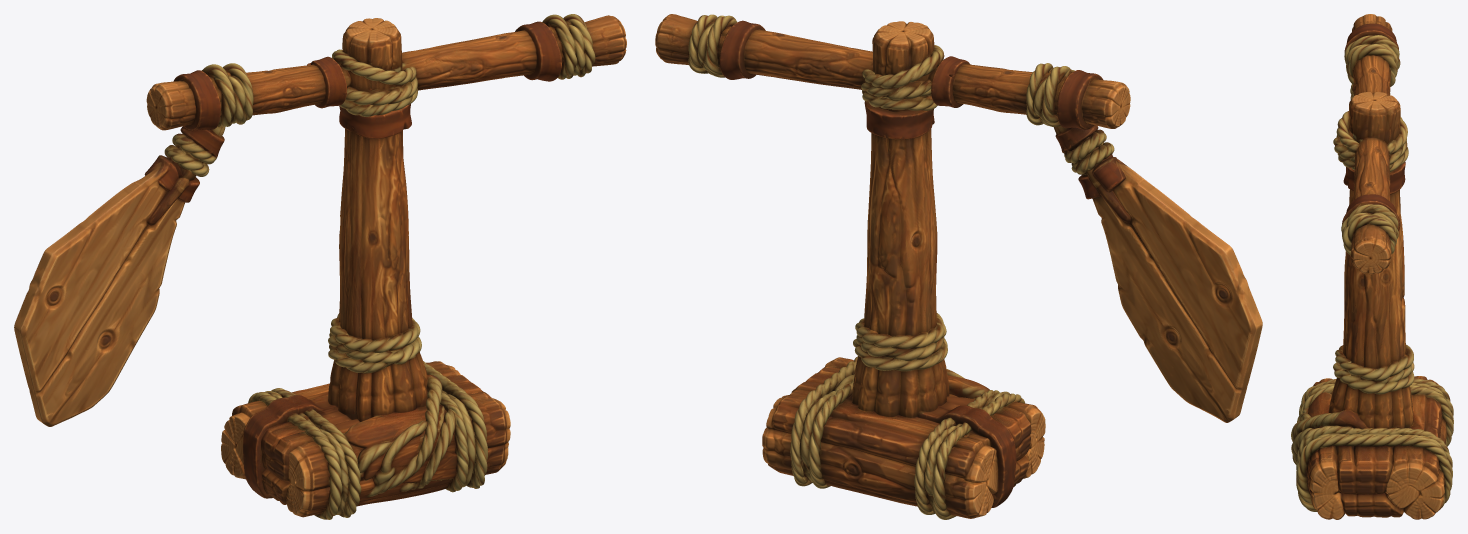
File: Floss_Steuerruder.glb
3 views of the same model, side by side, from view 1: azimuth 30°, elevation 25°; view 2: azimuth 150°, elevation 25°; view 3: azimuth 270°, elevation 25° (orthographic). The views are drawn at different scales.
Bounding box in the file's own units: 1.9 × 1.36 × 0.523.
Materials: 1 (1 with a texture image).
